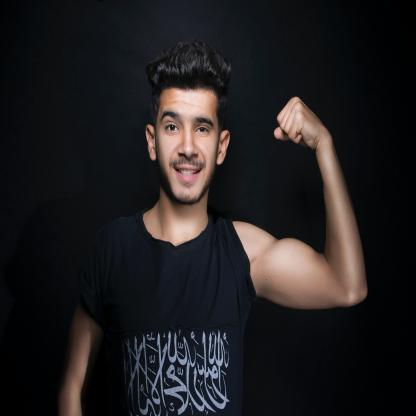Eye: (160, 119, 182, 136), (192, 119, 210, 138)
Mouth: (170, 162, 206, 182)
Nose: (177, 126, 199, 158)
